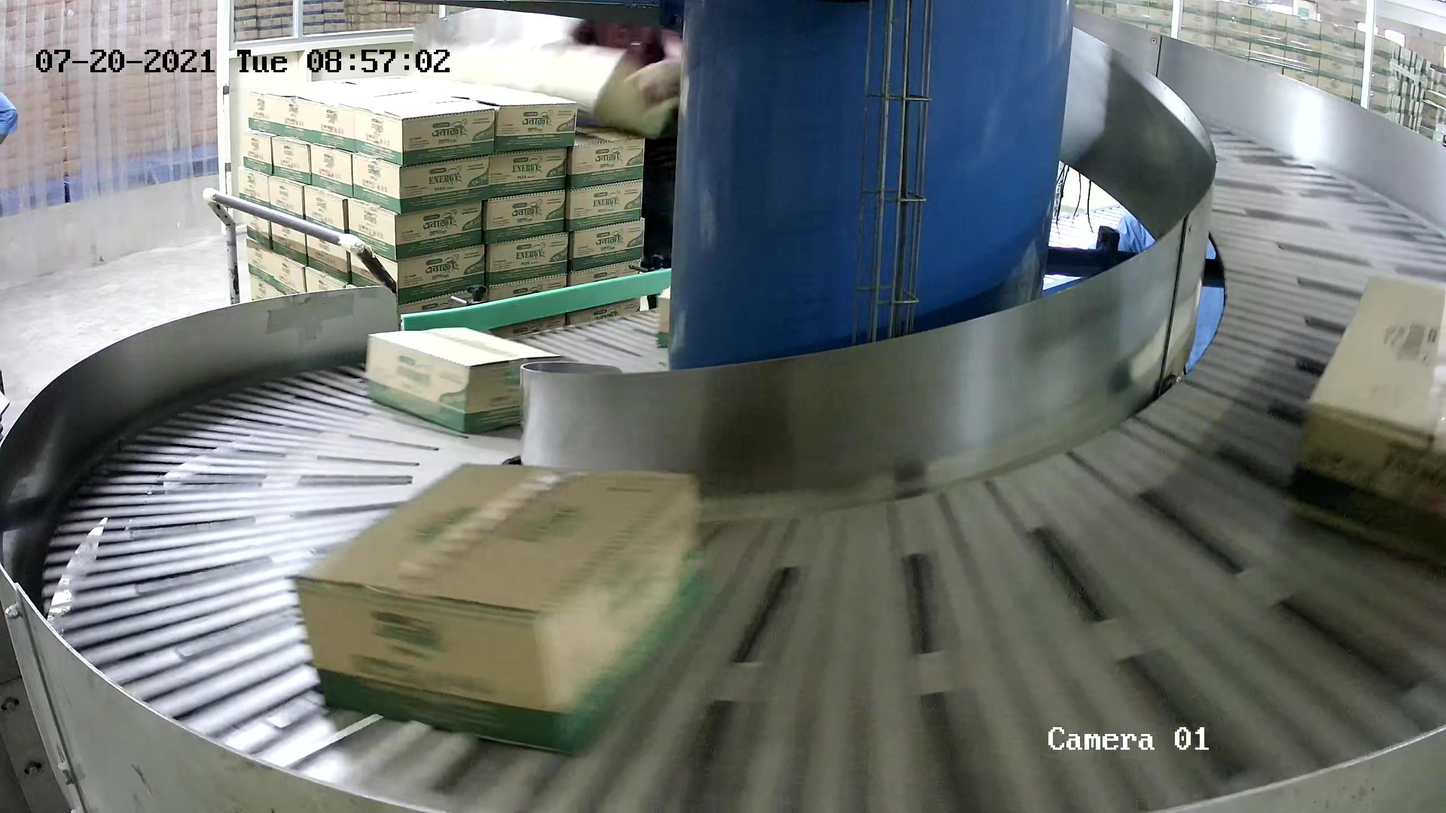Box: (292, 460, 718, 763), (1285, 268, 1446, 587), (366, 325, 565, 440)
